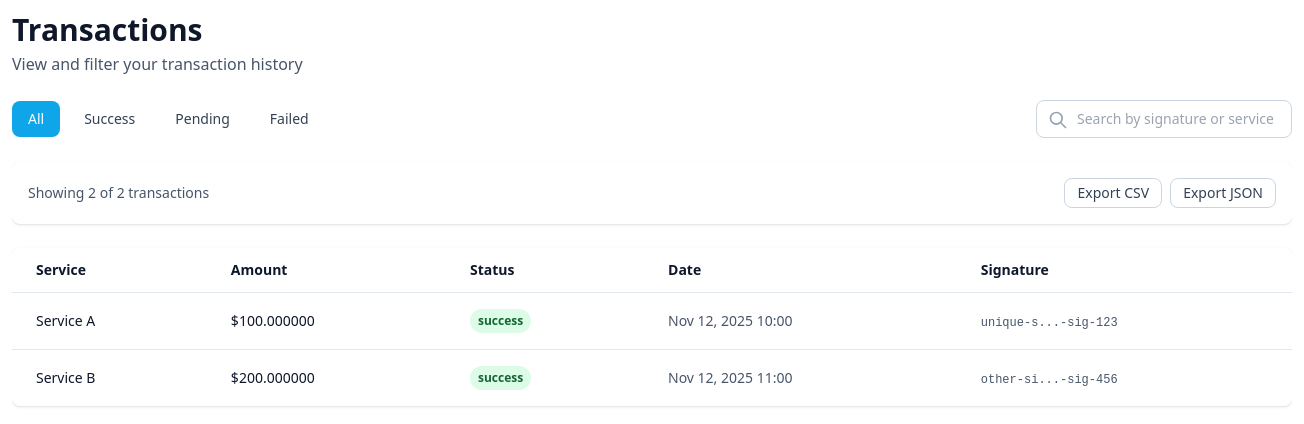
Test: TransactionsPage › should search transactions
Check: the text "Service A" is shown, box [12,292,207,350]
Type "unique" into the field with placeholder "Search by signature or service..." at {"x": 1164, "y": 119}, box [1036,100,1292,138]
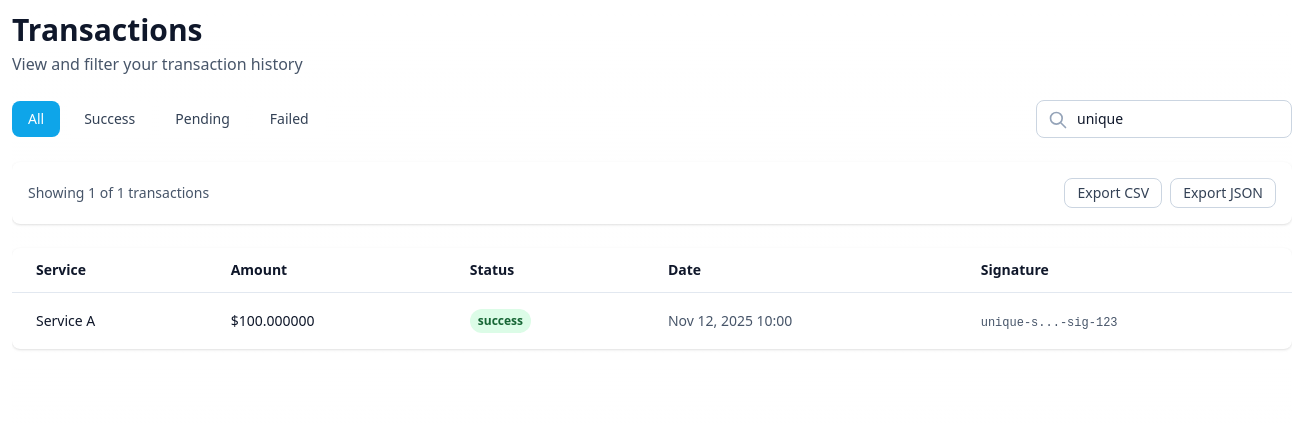
Check: the text "Service A" is shown, box [12,292,207,349]
Check: the text "Service B" is gone
